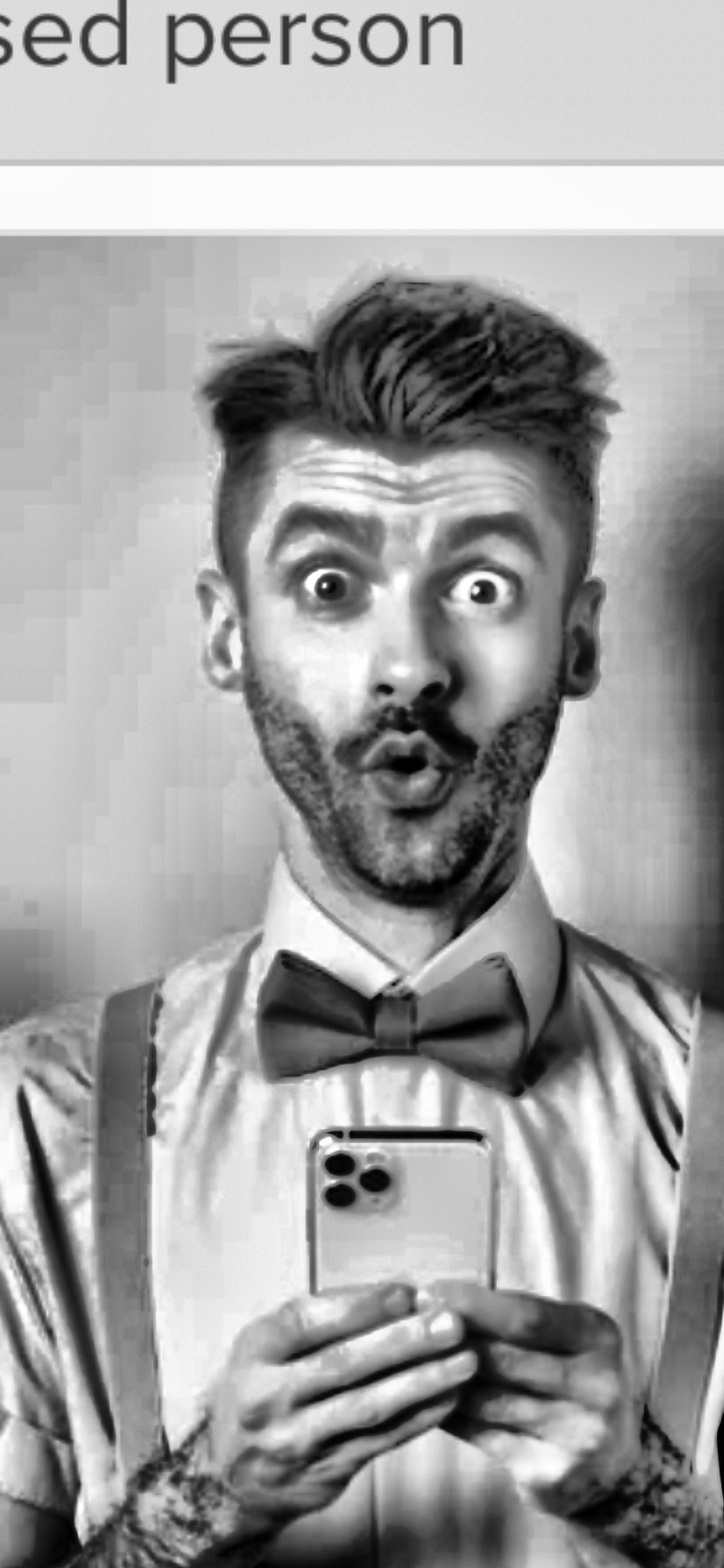surprised: (243, 390, 576, 881)
